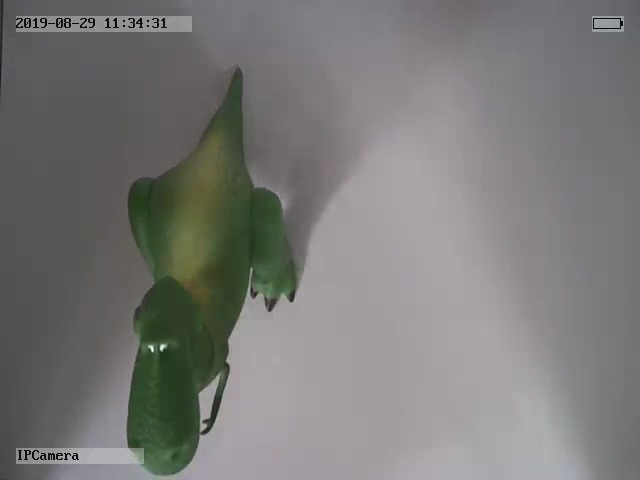rex: (125, 63, 298, 476)
